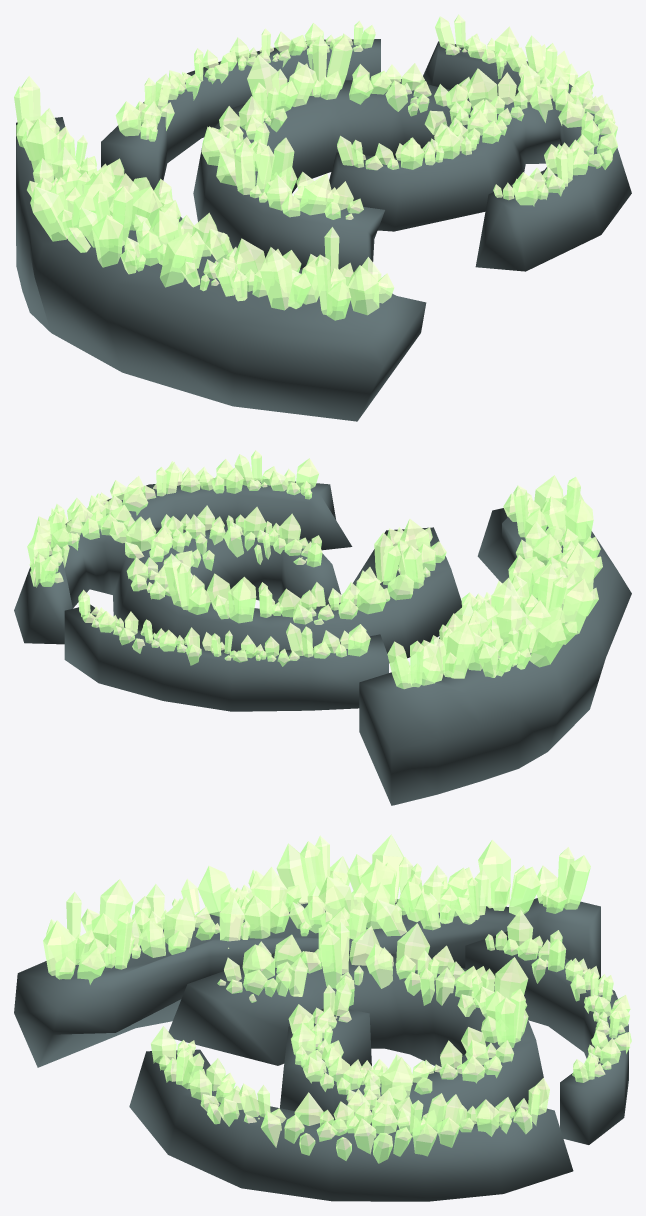
Rendered from Kliff_Prototyp.fbx.
The picture shows the model from 3 angles, top to bottom: view 1: azimuth 30°, elevation 25°; view 2: azimuth 150°, elevation 25°; view 3: azimuth 270°, elevation 25°; orthographic projection. The views are drawn at different scales.
Parts seen in each view (by area): view 1: Steinkliff; view 2: Steinkliff; view 3: Steinkliff.
Boxes of the visible parts, left/top/right/bottom form: Steinkliff: left=14, top=14, right=631, bottom=421; Steinkliff: left=14, top=450, right=631, bottom=805; Steinkliff: left=14, top=834, right=631, bottom=1201.
Bounding box in the file's own units: 4.66 × 1.36 × 4.26.
